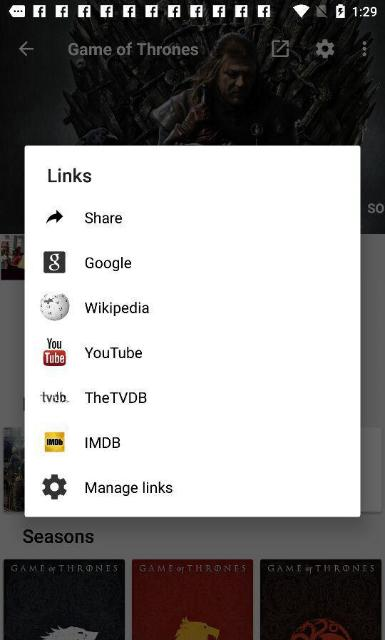Icon: (43, 474, 67, 498), (314, 40, 333, 58), (272, 40, 288, 56), (45, 210, 62, 222), (19, 42, 33, 56), (362, 42, 366, 56)
Image: (260, 559, 380, 639), (132, 559, 252, 639), (4, 559, 124, 639), (40, 292, 70, 320), (43, 338, 65, 366), (44, 251, 66, 273), (40, 388, 68, 404), (45, 432, 64, 451)
Modal: (24, 145, 360, 517)
Text: (68, 42, 198, 56), (86, 481, 172, 495), (23, 528, 93, 542), (85, 302, 149, 316), (85, 391, 147, 403), (84, 346, 141, 358), (85, 257, 131, 271), (48, 168, 92, 182), (84, 211, 122, 223), (85, 437, 119, 448)
UpperTaskBar: (0, 0, 384, 22)
